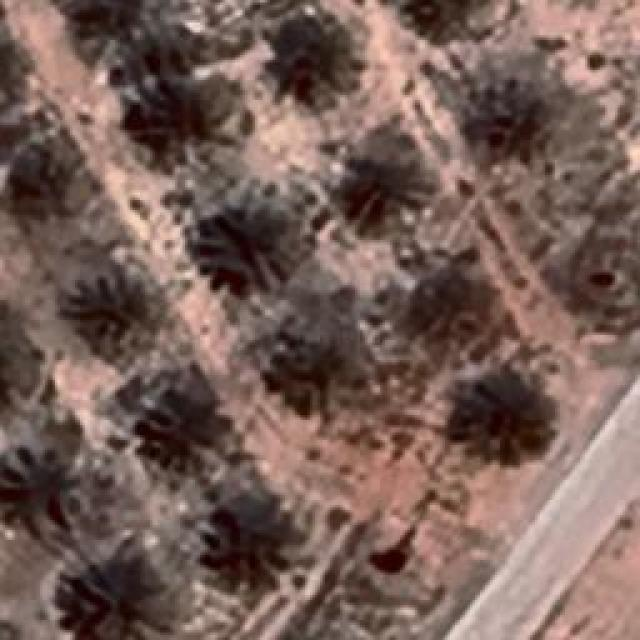PalmTree: (34, 73, 99, 492), (99, 20, 442, 73), (454, 374, 552, 462), (195, 496, 285, 582), (58, 562, 152, 640), (335, 137, 423, 215), (191, 202, 271, 280), (260, 12, 345, 82), (472, 76, 546, 149), (136, 384, 209, 458), (134, 74, 208, 142), (265, 338, 335, 406), (79, 278, 149, 342), (70, 0, 156, 49), (0, 144, 55, 206), (408, 260, 472, 312), (0, 322, 31, 412), (0, 31, 29, 120), (0, 28, 20, 116), (0, 326, 18, 411)
